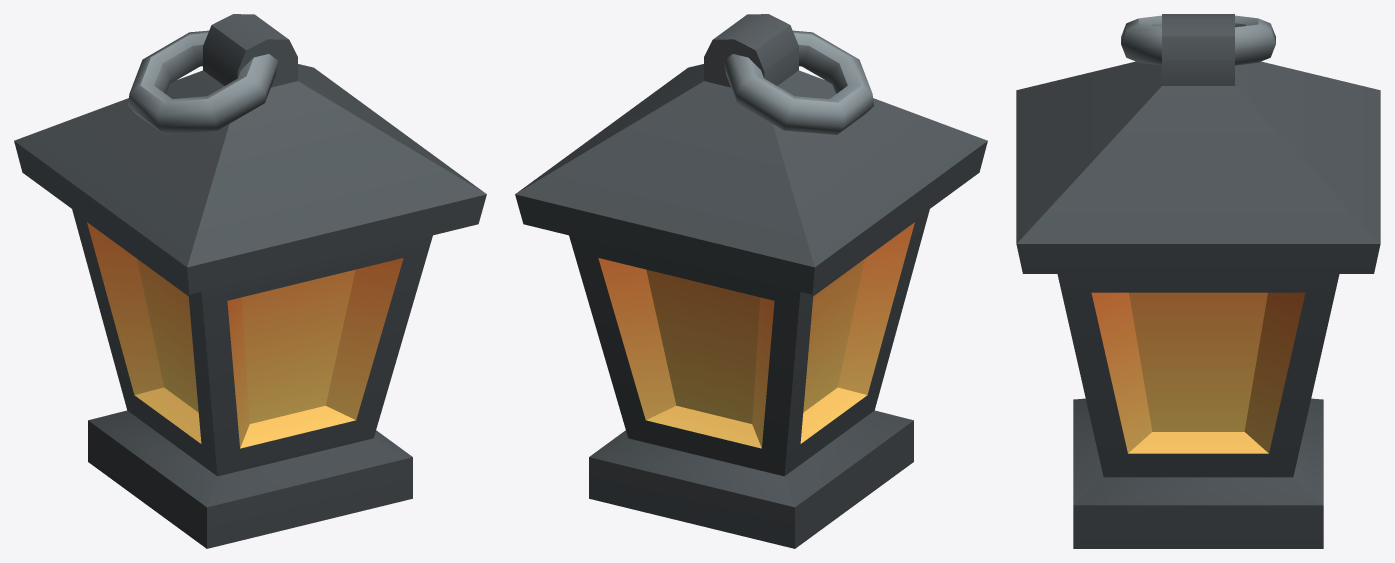
File: lantern_standing.glb
3 renders of one model, left to right at view 1: azimuth 30°, elevation 25°; view 2: azimuth 150°, elevation 25°; view 3: azimuth 270°, elevation 25°, orthographic. The views are drawn at different scales.
Parts seen in each view (by area): view 1: lantern_standing; view 2: lantern_standing; view 3: lantern_standing.
Part boxes in pixels (bbox=[...]): lantern_standing: bbox=[14, 14, 486, 548]; lantern_standing: bbox=[515, 14, 987, 548]; lantern_standing: bbox=[1016, 14, 1380, 548].
Size of the model in its own units: 0.64 by 0.9252 by 0.64.
Materials: 1 (1 with a texture image).
